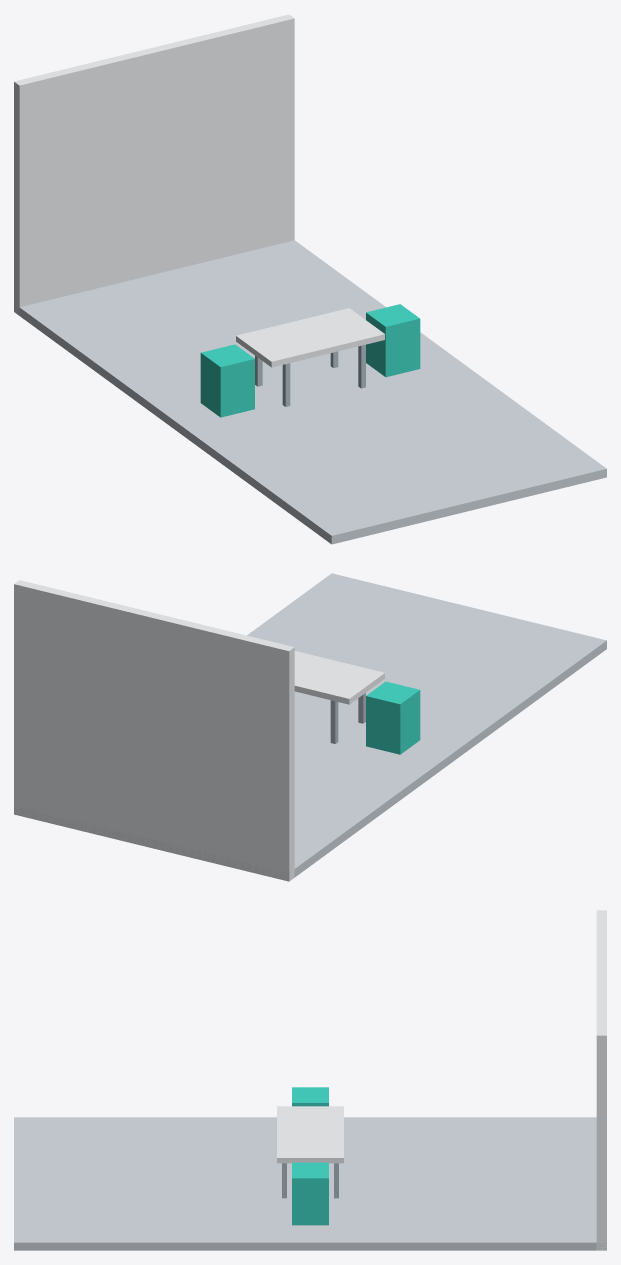
The picture shows the model from 3 angles, top to bottom: view 1: azimuth 30°, elevation 25°; view 2: azimuth 150°, elevation 25°; view 3: azimuth 270°, elevation 25°; orthographic projection. The views are drawn at different scales.
Parts seen in each view (by area): view 1: Exhibition Booth Concept; view 2: Exhibition Booth Concept; view 3: Exhibition Booth Concept.
Part boxes in pixels (x1=…): Exhibition Booth Concept: x1=14, y1=14, x2=606, y2=544; Exhibition Booth Concept: x1=14, y1=573, x2=606, y2=881; Exhibition Booth Concept: x1=14, y1=910, x2=606, y2=1250.
Size of the model in its own units: 4 by 3.2 by 8.
